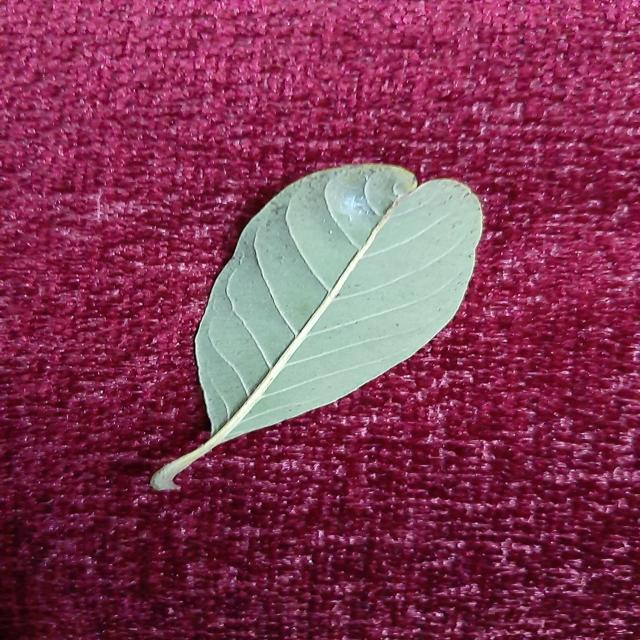seethaphala: (154, 164, 482, 489)
